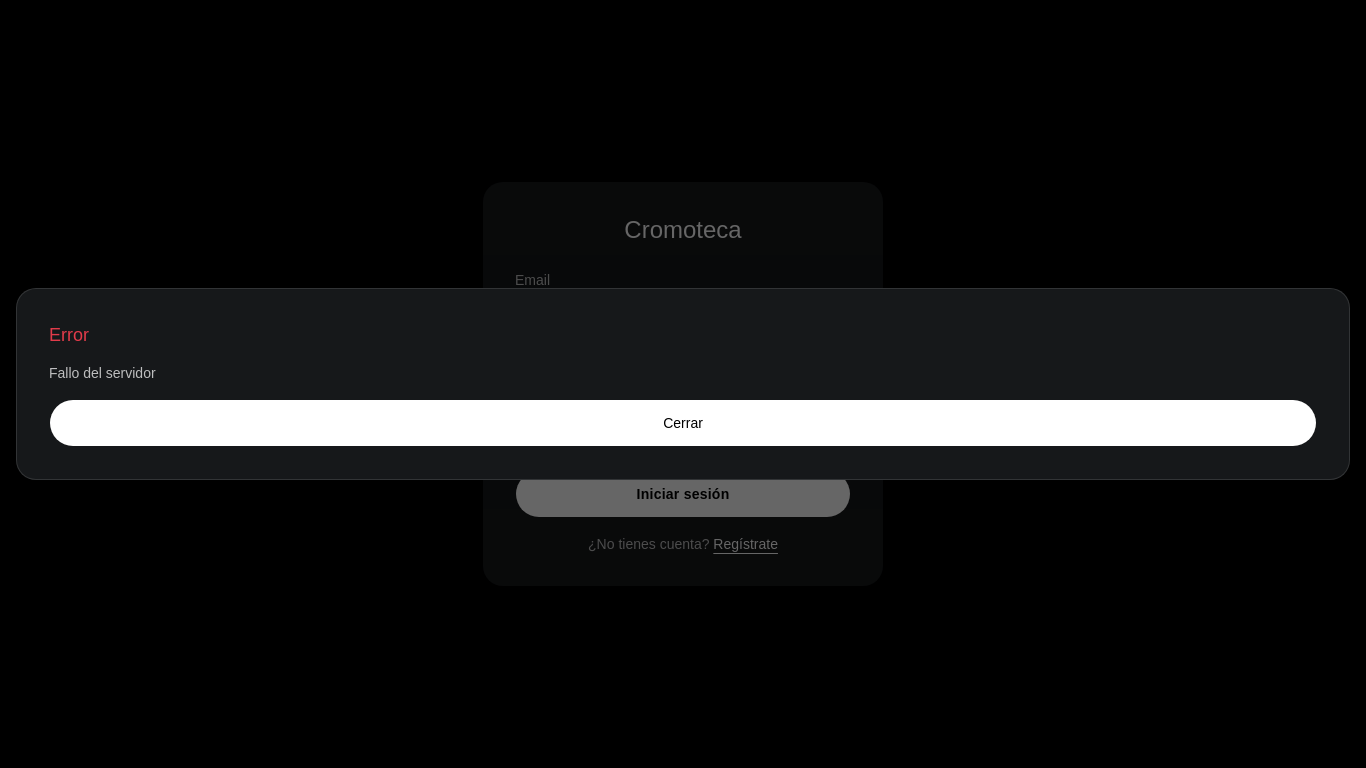
Scenario: ErrorModal mounted on both routes — R-RT-04 / R-FBK-02 AC5 › opens from ui.errorMessages on /login and is dismissible while login stays mounted
Expected: the dialog shows "Fallo del servidor", [49, 365, 156, 381]
Click the button "Cerrar".
click(683, 423)  # box [49, 399, 1317, 447]
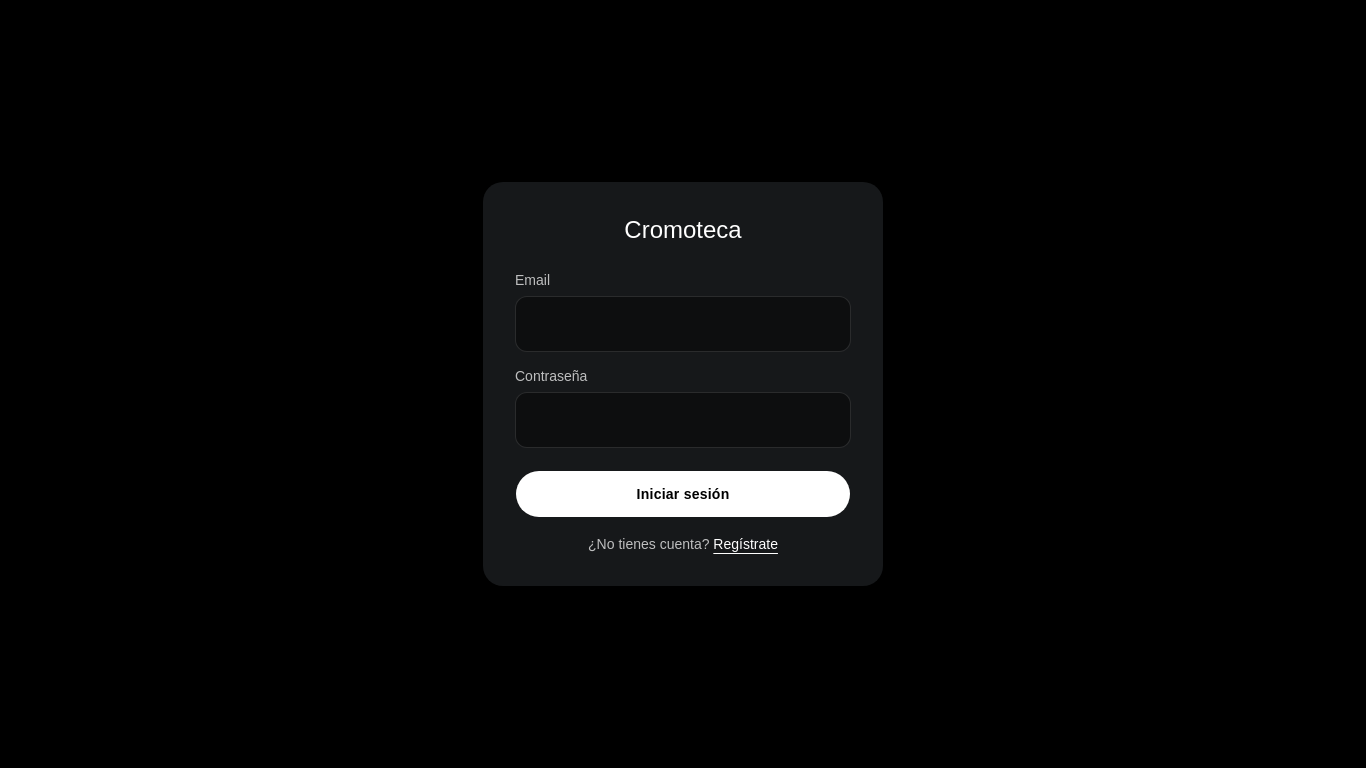
Expected: the button "Iniciar sesión" is shown, [515, 470, 851, 518]
Now the dialog is gone
